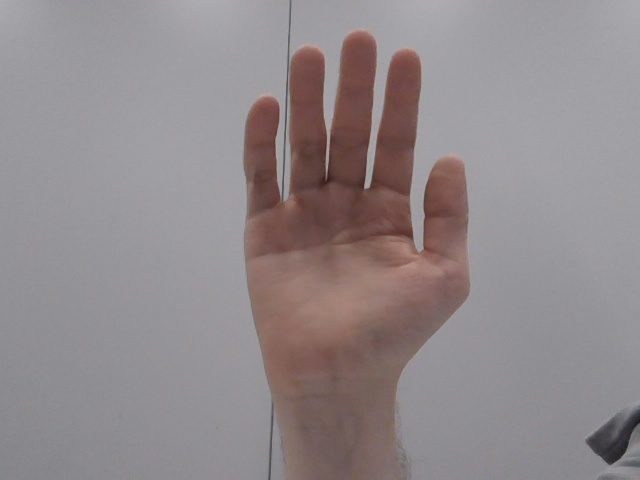nada: (207, 17, 511, 418)
